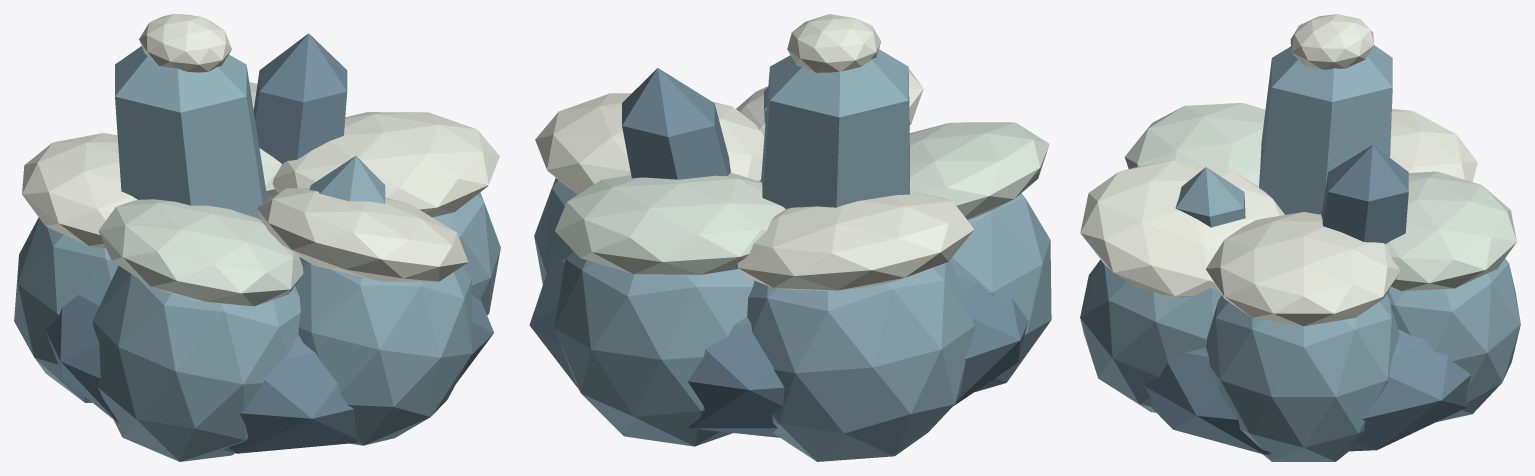
The model's file is storybook_frost_outcrop_v1.glb.
3 views of the same model, side by side, from view 1: azimuth 30°, elevation 25°; view 2: azimuth 150°, elevation 25°; view 3: azimuth 270°, elevation 25° (orthographic). The views are drawn at different scales.
Parts seen in each view (by area): view 1: frost_outcrop ice, frost_outcrop whitesnow, frost_outcrop deepice, frost_outcrop snow; view 2: frost_outcrop ice, frost_outcrop whitesnow, frost_outcrop snow, frost_outcrop deepice; view 3: frost_outcrop ice, frost_outcrop whitesnow, frost_outcrop deepice, frost_outcrop snow.
Part boxes in pixels (x1,y1,x2,y2): frost_outcrop ice: (14,46,500,461); frost_outcrop whitesnow: (22,14,499,281); frost_outcrop deepice: (45,33,493,453); frost_outcrop snow: (98,82,303,306); frost_outcrop ice: (534,49,1051,461); frost_outcrop whitesnow: (535,14,974,290); frost_outcrop snow: (555,122,1049,275); frost_outcrop deepice: (529,68,1028,437); frost_outcrop ice: (1080,45,1520,461); frost_outcrop whitesnow: (1080,14,1477,326); frost_outcrop deepice: (1144,145,1470,454); frost_outcrop snow: (1124,102,1516,291).
Size of the model in its own units: 1.9 by 1.56 by 1.82.
